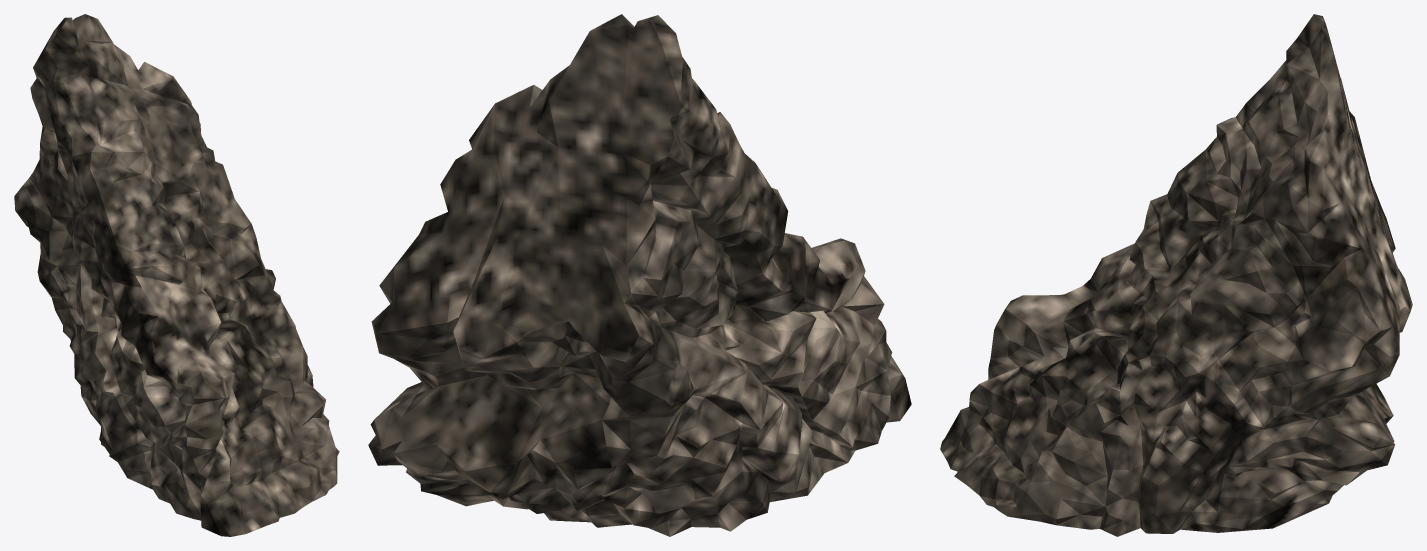
Rendered from SM_ION_SquareRock_01.fbx.
3 views of the same model, side by side, from view 1: azimuth 30°, elevation 25°; view 2: azimuth 150°, elevation 25°; view 3: azimuth 270°, elevation 25° (orthographic). The views are drawn at different scales.
Visible parts, largest first — view 1: SM_ION_SquareRock_01.mo; view 2: SM_ION_SquareRock_01.mo; view 3: SM_ION_SquareRock_01.mo.
Part boxes in pixels (x1,y1,x2,y2): SM_ION_SquareRock_01.mo: (14,14,339,536); SM_ION_SquareRock_01.mo: (368,14,911,536); SM_ION_SquareRock_01.mo: (940,14,1412,536).
Size of the model in its own units: 197 by 362 by 359.
